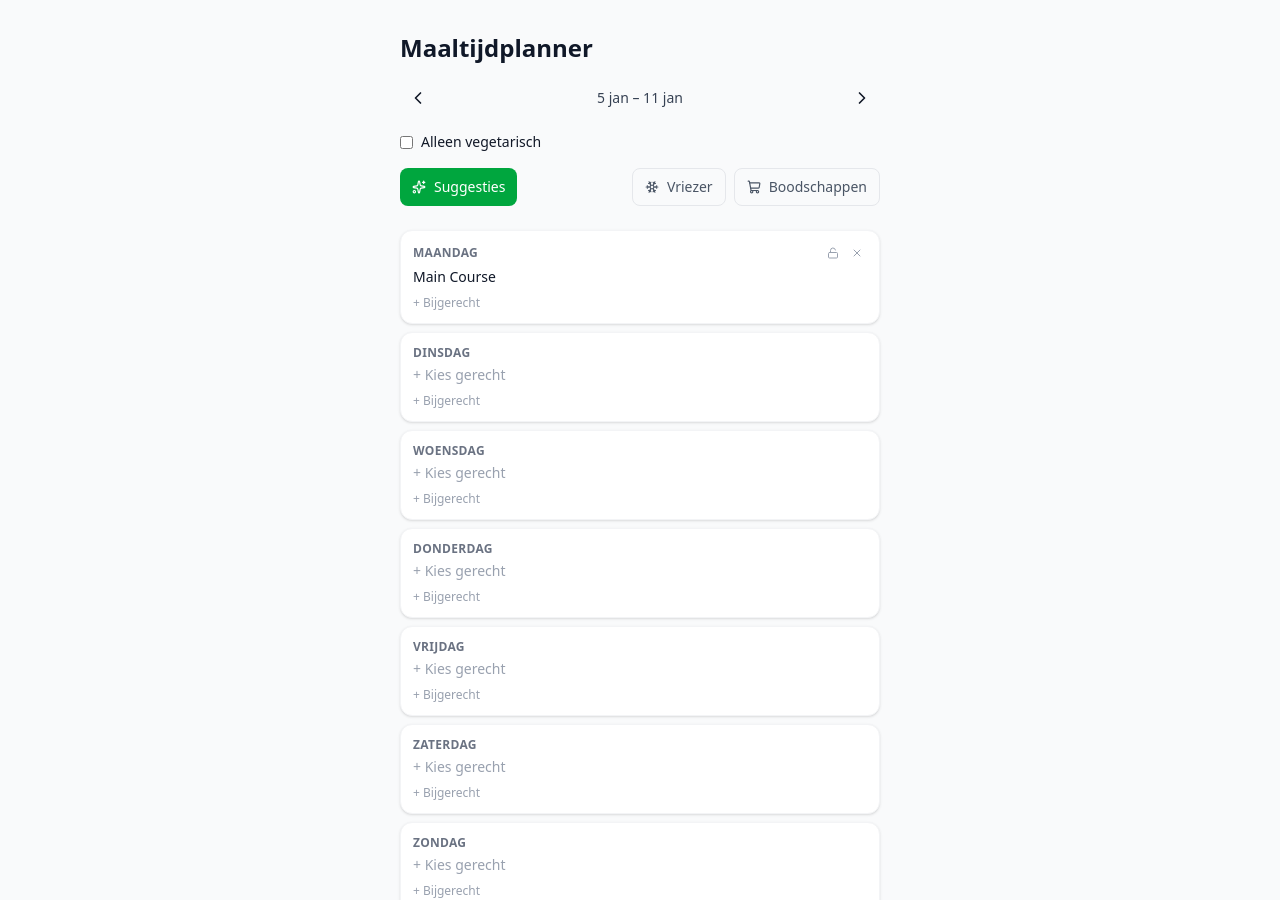
Test: Planner side dishes › excludes side-dish and baking recipes from the main-dish picker
Expected: the link "Main Course" is shown, top-left (413, 267), bottom-right (496, 286)
Click the button "+ Kies gerecht" below "Dinsdag" at {"x": 459, "y": 375}, box top-left (413, 365), bottom-right (506, 385)
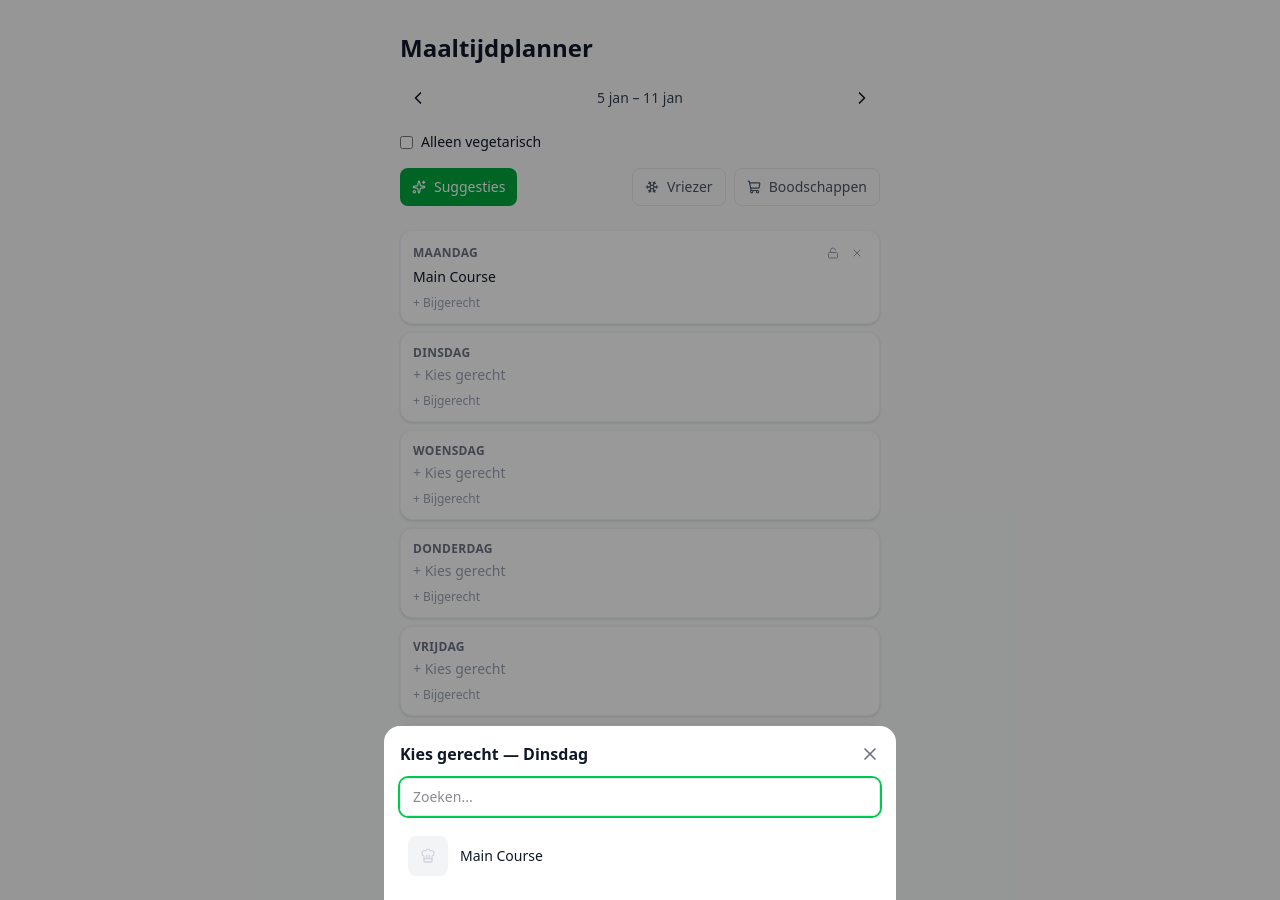
Now the heading "Kies gerecht — Dinsdag" is shown, box top-left (400, 742), bottom-right (588, 766)
